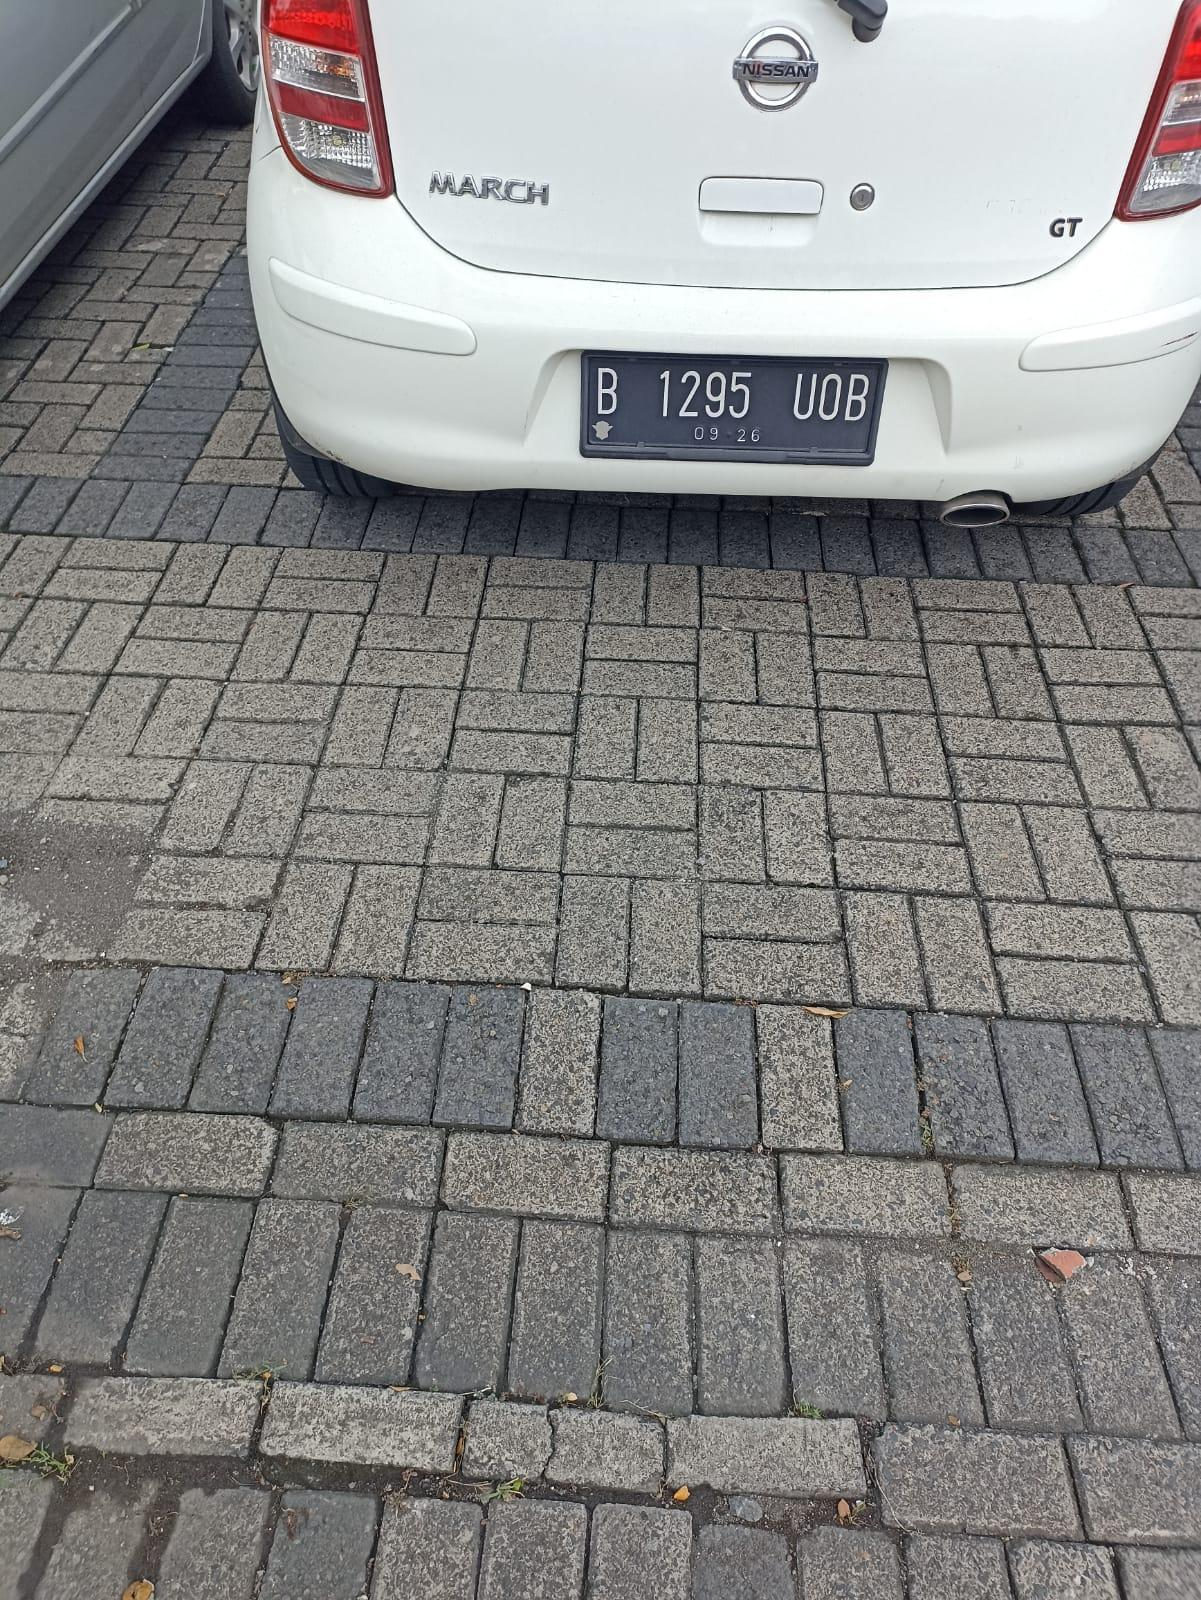plat: (582, 350, 887, 466)
